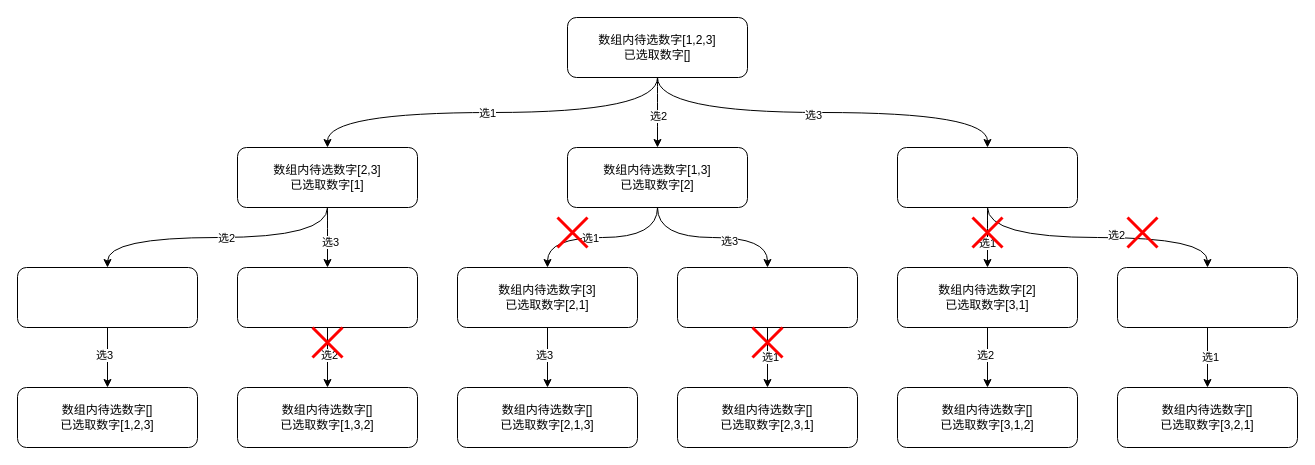
This 1315x465 diagram has some shape labels left out. Each missing label, with the centre of its shape:
"数组内待选数字[1,2] 已选取数字[3]" belongs at (x=987, y=177).
"数组内待选数字[1] 已选取数字[2,3]" belongs at (x=767, y=297).
"数组内待选数字[1] 已选取数字[3,2]" belongs at (x=1207, y=297).
"数组内待选数字[2] 已选取数字[1,3]" belongs at (x=327, y=297).
"数组内待选数字[3] 已选取数字[1,2]" belongs at (x=107, y=297).
